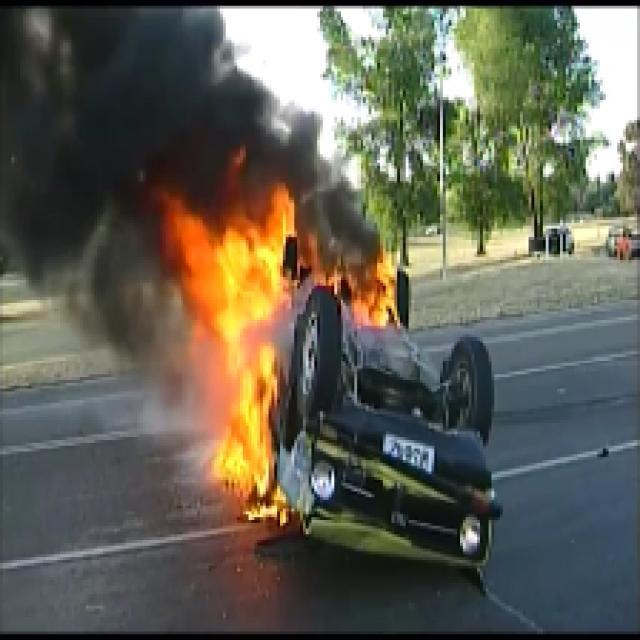Fire: (160, 188, 297, 528), (303, 252, 400, 328)
Smoke: (3, 3, 266, 223)
